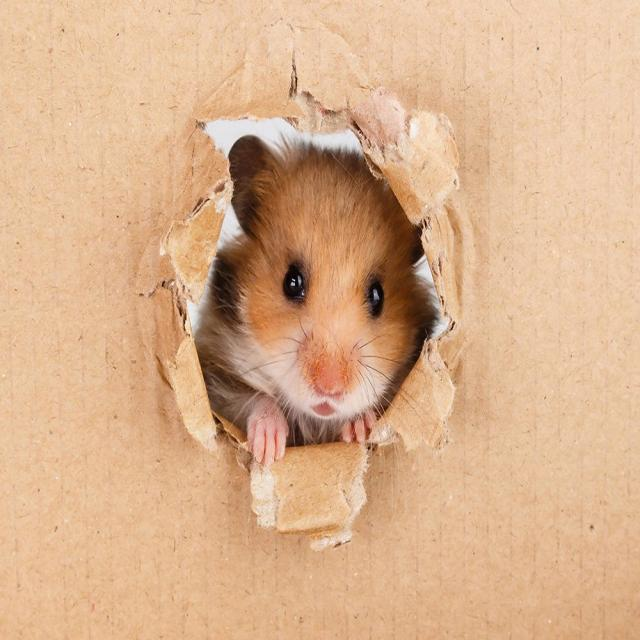hamster: (228, 148, 436, 442)
